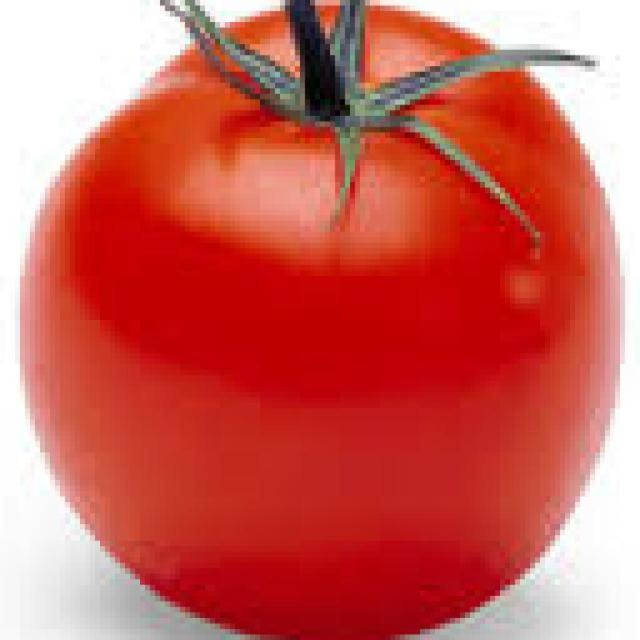Healthy Fruit: (13, 3, 422, 427)
